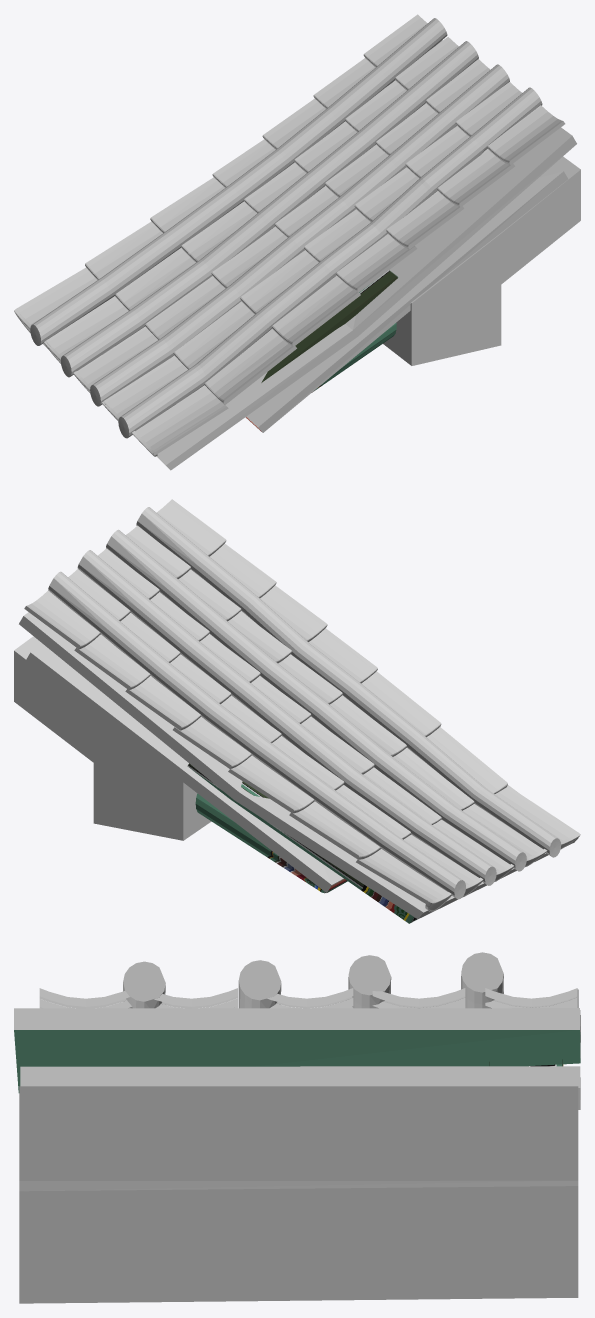
Rendered from SM_Roof_6.fbx.
The picture shows the model from 3 angles, top to bottom: view 1: azimuth 30°, elevation 25°; view 2: azimuth 150°, elevation 25°; view 3: azimuth 270°, elevation 25°; orthographic projection. The views are drawn at different scales.
Parts seen in each view (by area): view 1: SM_Roof_6_LOD0; view 2: SM_Roof_6_LOD0; view 3: SM_Roof_6_LOD0.
Part boxes in pixels (left/top/right/bottom): SM_Roof_6_LOD0: left=14, top=14, right=580, bottom=470; SM_Roof_6_LOD0: left=14, top=499, right=580, bottom=923; SM_Roof_6_LOD0: left=14, top=952, right=580, bottom=1303.
Bounding box in the file's own units: 432 × 271 × 263.
